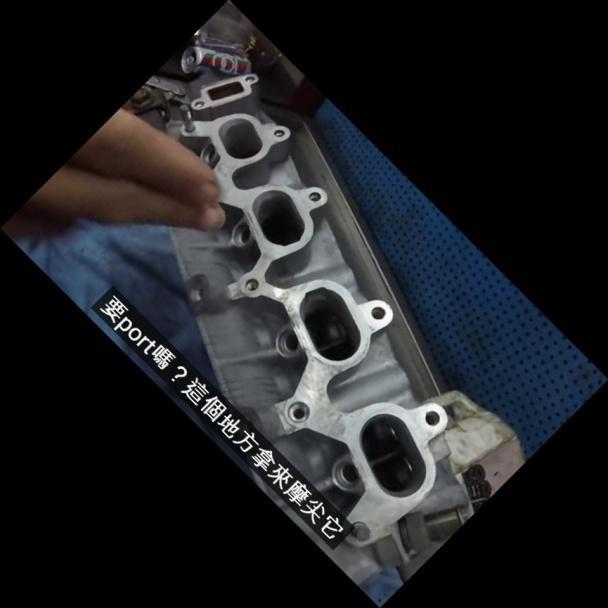hole: (282, 395, 314, 427), (420, 406, 443, 429), (240, 274, 260, 294), (367, 302, 387, 322), (305, 187, 323, 204), (190, 96, 204, 110), (271, 125, 284, 139), (243, 72, 255, 84)
